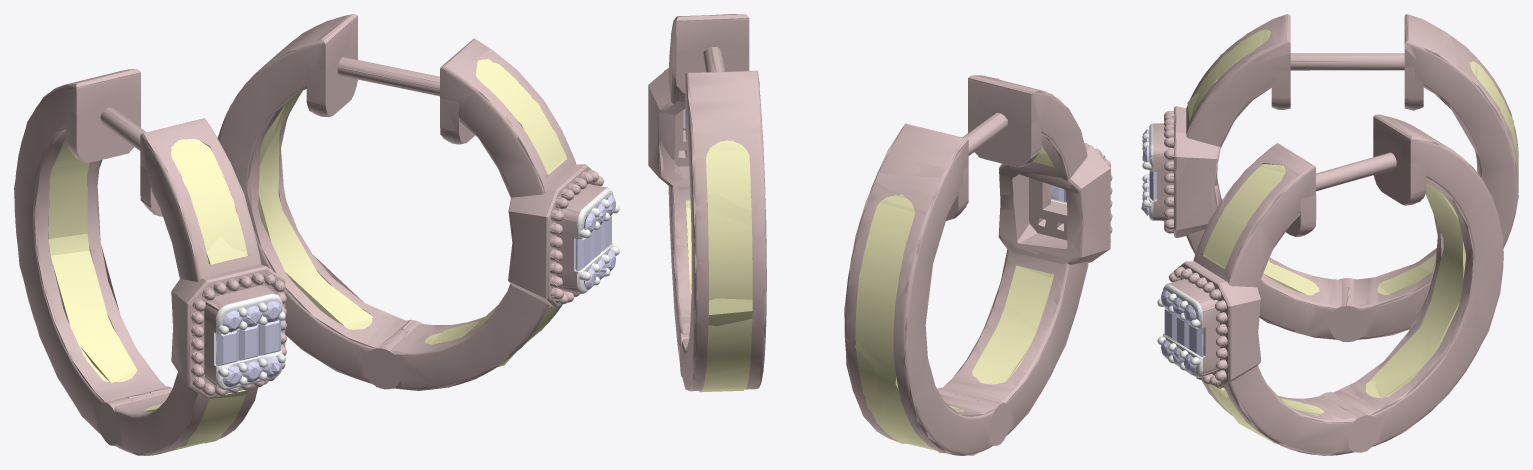
The model's file is DT-D000677443_hub.glb.
3 renders of one model, left to right at view 1: azimuth 30°, elevation 25°; view 2: azimuth 150°, elevation 25°; view 3: azimuth 270°, elevation 25°, orthographic. The views are drawn at different scales.
Visible parts, largest first — view 1: highPolyMesh, lowPolyMesh; view 2: highPolyMesh, lowPolyMesh; view 3: highPolyMesh, lowPolyMesh.
Boxes of the visible parts, x1,y1,x2,y2 form: highPolyMesh: (14,14,619,455); lowPolyMesh: (14,14,619,455); highPolyMesh: (648,14,1112,455); lowPolyMesh: (648,14,1112,455); highPolyMesh: (1142,14,1518,455); lowPolyMesh: (1141,14,1518,455).
Bounding box in the file's own units: 0.0241 × 0.0175 × 0.0199.
